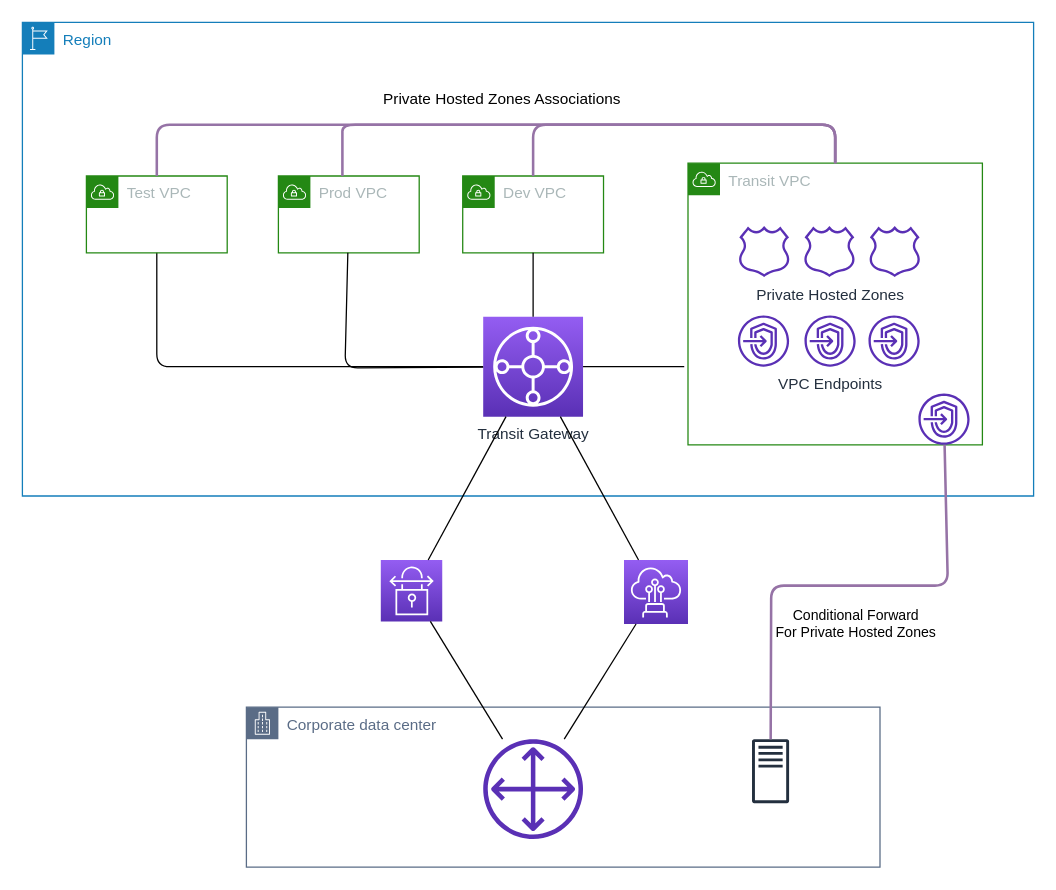
Some shapes in this 1056 by 890 pixel diagram are drawn without their labels. Here are the shapes that lost their labels. From the top down, the centre of each, then its label:
At [943,418]: "Inbound R53 Endpoint".
At [411,590]: "VPN".
At [655,591]: "Direct Connect".
At [769,771]: "DNS Server".
